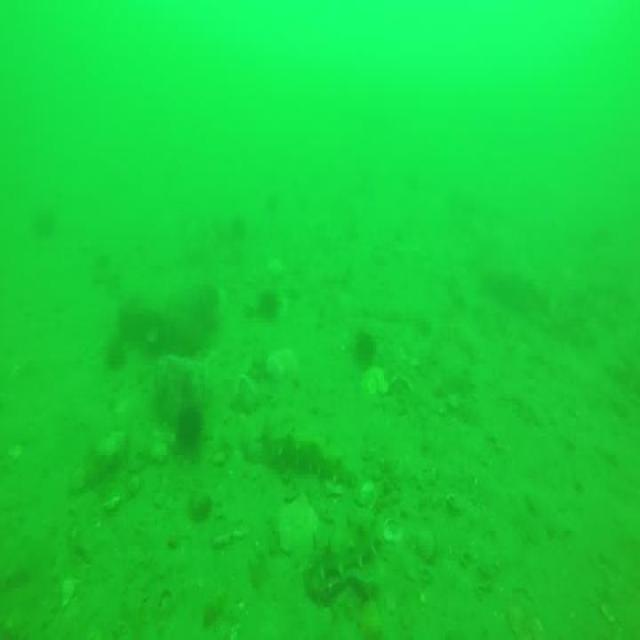echinus: (175, 398, 205, 457), (258, 286, 281, 324), (356, 328, 375, 366)
holothurian: (304, 523, 386, 605), (259, 430, 353, 491)
scallop: (363, 368, 390, 395), (355, 479, 377, 512)
